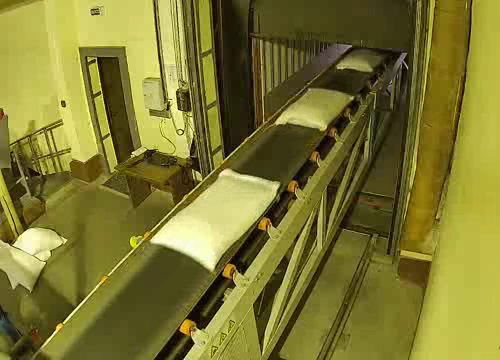bag: (138, 169, 288, 273), (271, 83, 360, 135), (334, 45, 390, 75)
